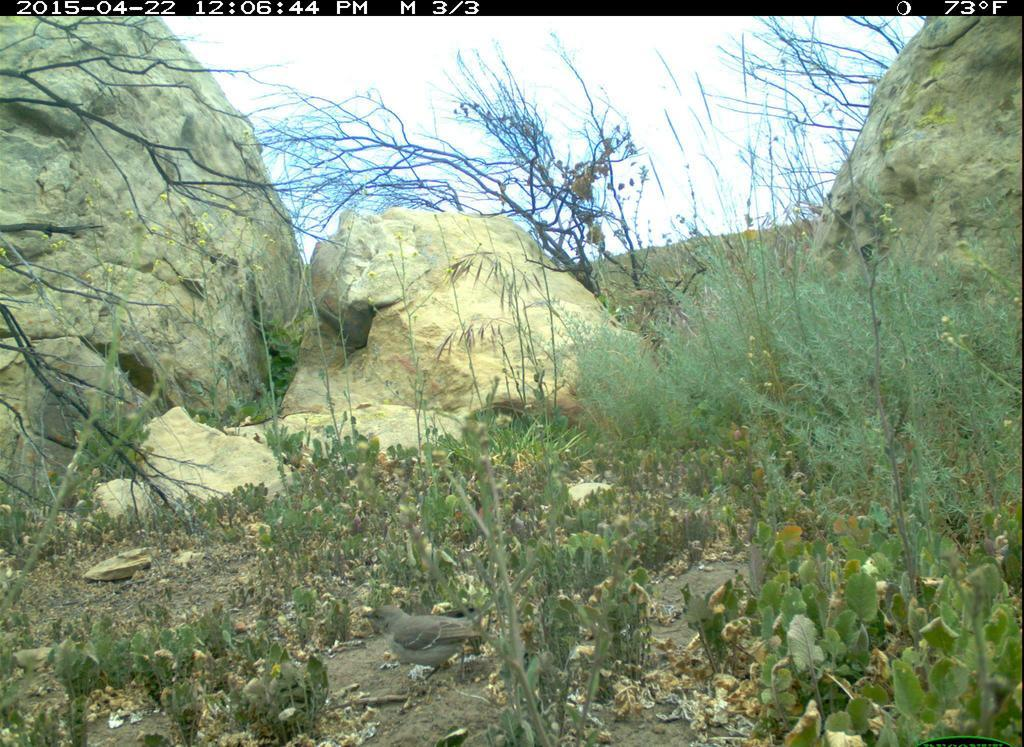bird: (359, 598, 496, 678)
